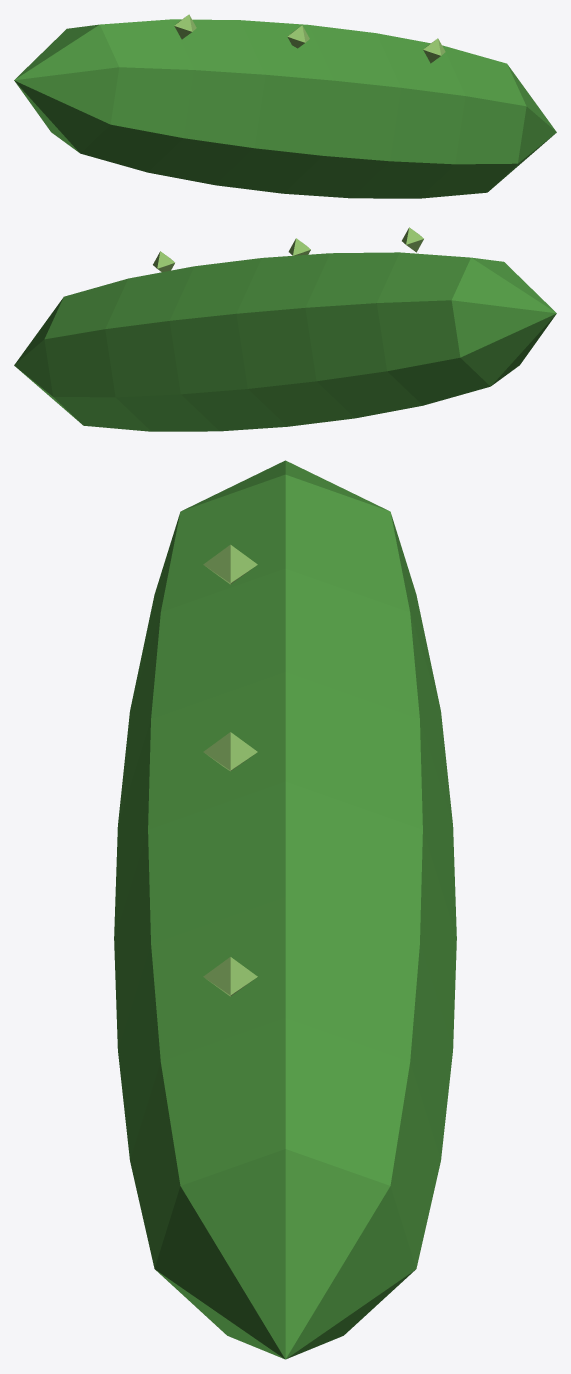
Rendered from Food_Cucumber.obj.
3 renders of one model, top to bottom at view 1: azimuth 30°, elevation 25°; view 2: azimuth 150°, elevation 25°; view 3: azimuth 270°, elevation 25°, orthographic. The views are drawn at different scales.
Bounding box in the file's own units: 2.28 × 1.01 × 0.624.
